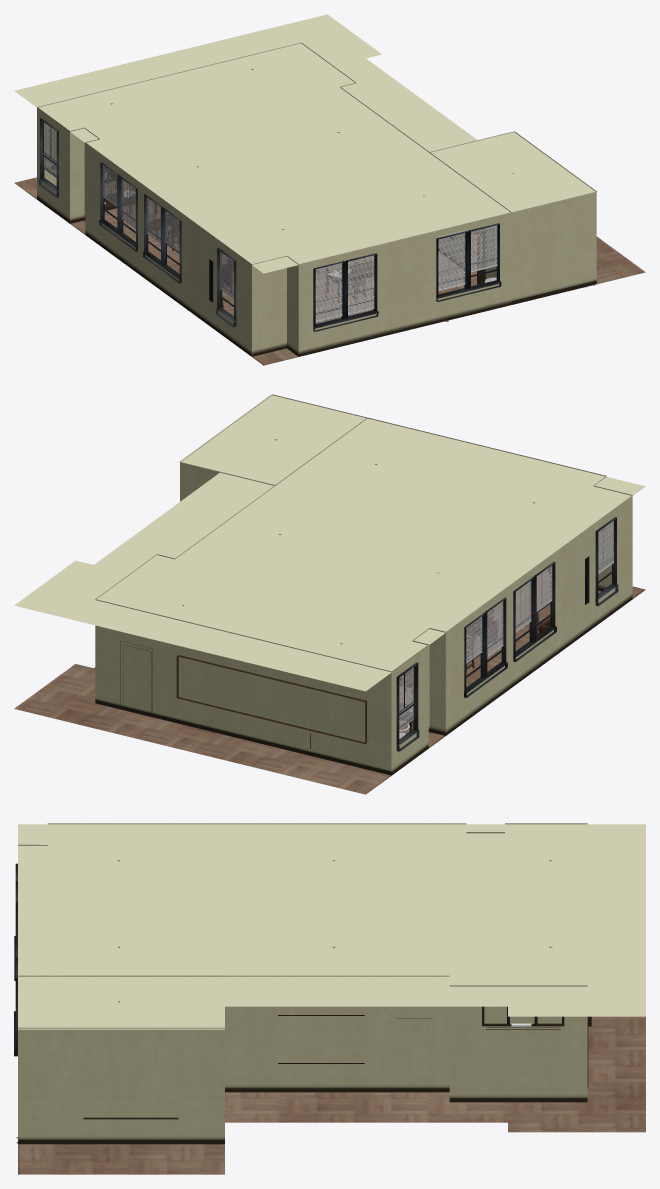
File: AdamSewingRoom.fbx
3 views of the same model, one above another, from view 1: azimuth 30°, elevation 25°; view 2: azimuth 150°, elevation 25°; view 3: azimuth 270°, elevation 25° (orthographic). The views are drawn at different scales.
Parts seen in each view (by area): view 1: ceiling, walls, floor, blinds (×3), blinds1, blinds2, blinds4, singleWindowBlinds, blinds3; view 2: ceiling, walls, floor, blinds (×3), singleWindowFrame (×2), chalkBoard, blinds4, singleWindowBlinds, blinds3; view 3: ceiling, walls, floor.
Boxes of the visible parts, x1,y1,x2,y2 form: ceiling: (14, 14, 597, 273); walls: (37, 42, 596, 356); floor: (14, 177, 645, 365); blinds (×3): (220, 225, 497, 322); blinds1: (438, 230, 465, 290); blinds2: (348, 255, 374, 314); blinds4: (121, 179, 135, 228); singleWindowBlinds: (43, 123, 56, 177); blinds3: (146, 198, 160, 243); ceiling: (14, 395, 645, 691); walls: (95, 394, 632, 775); floor: (14, 569, 645, 794); blinds (×3): (466, 521, 613, 663); singleWindowFrame (×2): (396, 517, 616, 744); chalkBoard: (176, 655, 366, 743); blinds4: (487, 601, 503, 657); singleWindowBlinds: (399, 668, 413, 729); blinds3: (515, 581, 531, 632); ceiling: (18, 824, 645, 1029); walls: (18, 823, 587, 1144); floor: (18, 1016, 645, 1174).
Bounding box in the file's own units: 17.45 × 4.39 × 19.72.
